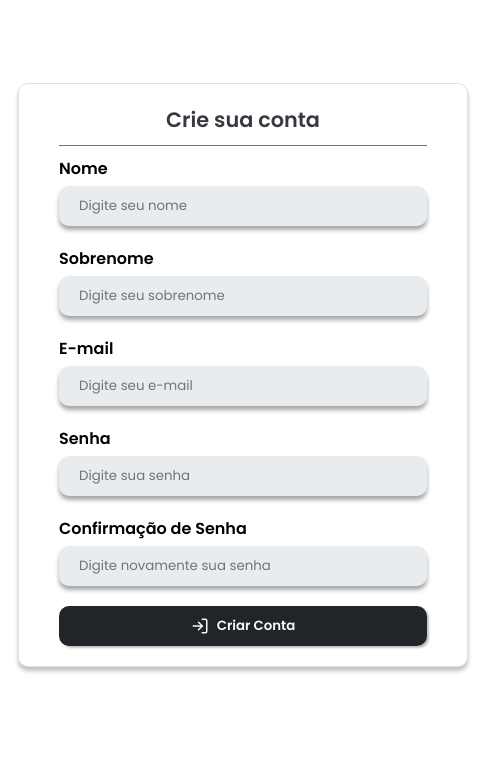
Test: Sign Up › Should show error if inputs of form is will empty
The image size is (487, 758).
Click the button "Criar Conta" at (243, 626), box [59,606,427,646]
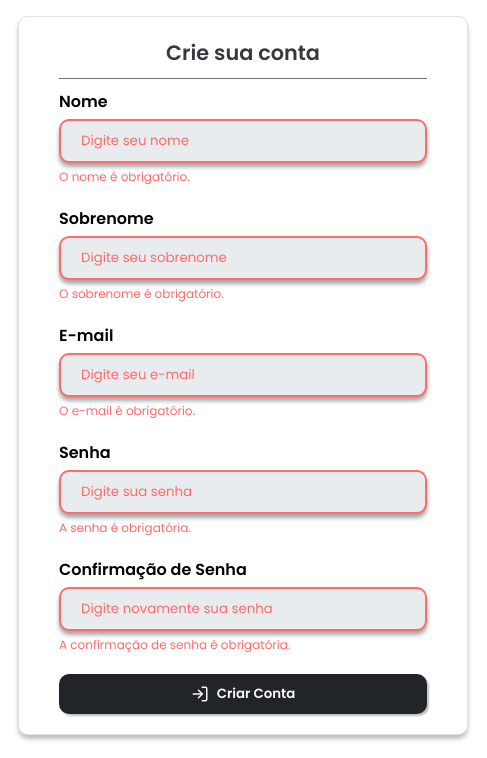
expect the text "O nome é obrigatório." is shown: met, box [59,168,190,184]
expect the text "O sobrenome é obrigatório." is shown: met, box [59,284,224,302]
expect the text "O e-mail é obrigatório." is shown: met, box [59,402,195,418]
